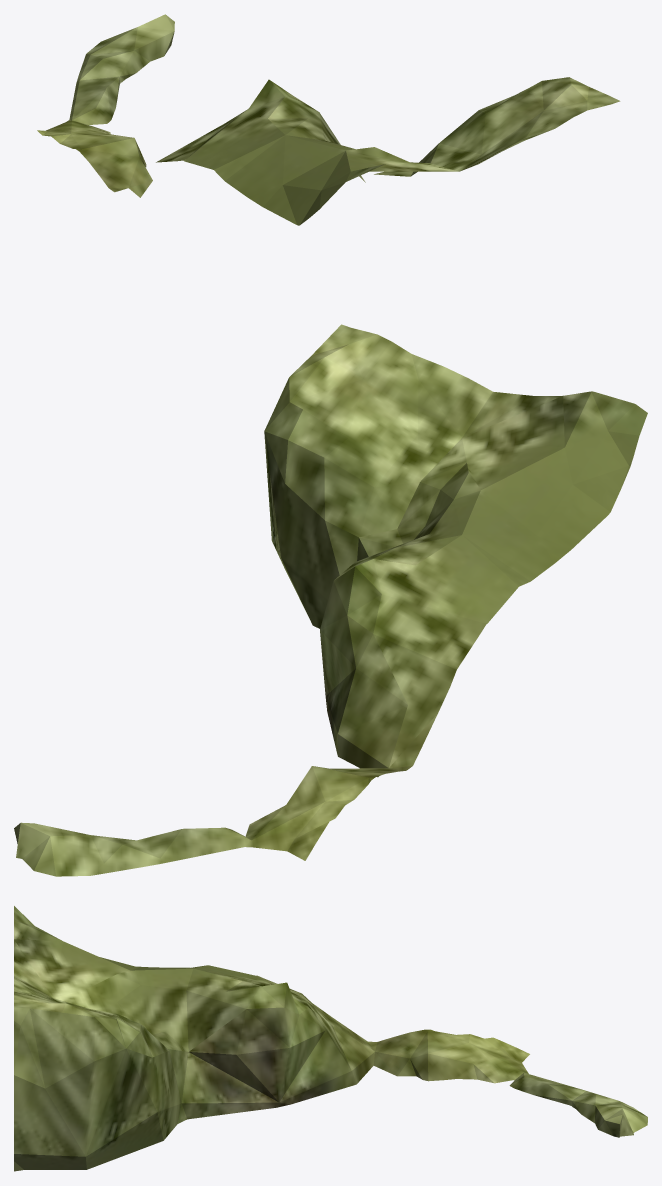
3 renders of one model, top to bottom at view 1: azimuth 30°, elevation 25°; view 2: azimuth 150°, elevation 25°; view 3: azimuth 270°, elevation 25°, orthographic. The views are drawn at different scales.
Size of the model in its own units: 0.9421 by 0.5664 by 2.04.
1 material, 1 textured.
